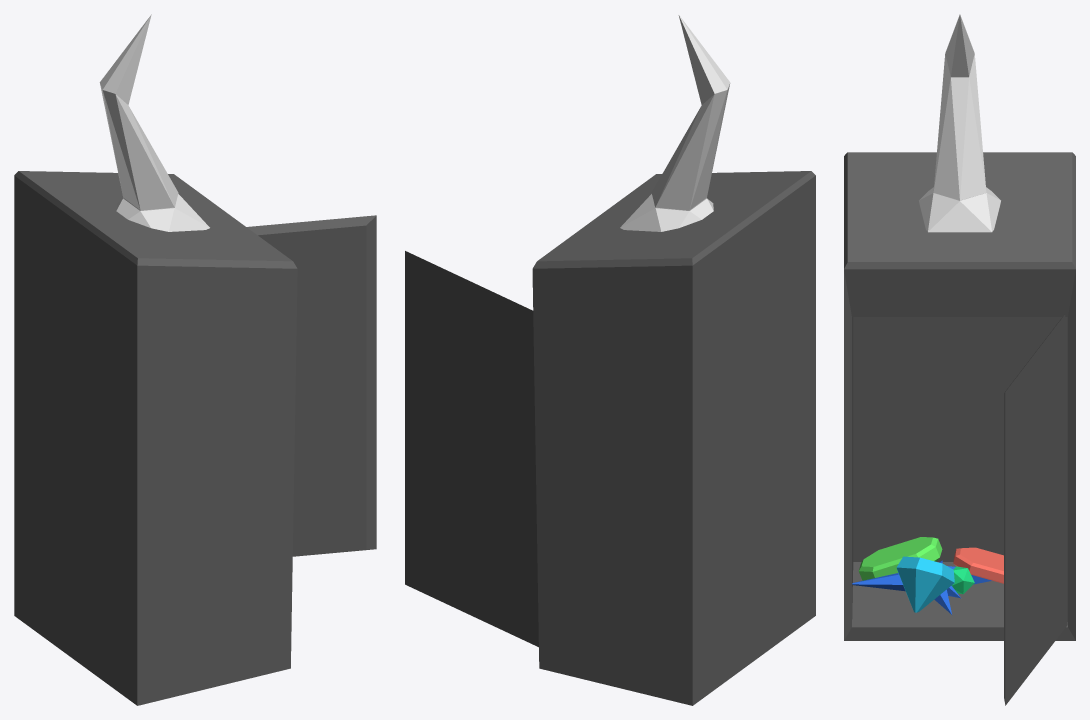
Rendered from drgn.glb.
3 renders of one model, left to right at view 1: azimuth 30°, elevation 25°; view 2: azimuth 150°, elevation 25°; view 3: azimuth 270°, elevation 25°, orthographic. The views are drawn at different scales.
Parts seen in each view (by area): view 1: Cube, Cube.001, Icosphere.005; view 2: Cube, Cube.001, Icosphere.005; view 3: Cube, Cube.001, Icosphere.005, Cone, Cylinder, Cylinder.001, Icosphere.001, Icosphere.004.
Part boxes in pixels (left/top/right/bottom): Cube: left=14, top=171, right=297, bottom=705; Cube.001: left=246, top=215, right=376, bottom=556; Icosphere.005: left=99, top=14, right=209, bottom=231; Cube: left=532, top=171, right=815, bottom=705; Cube.001: left=405, top=251, right=538, bottom=647; Icosphere.005: left=620, top=14, right=730, bottom=231; Cube: left=844, top=152, right=1075, bottom=640; Cube.001: left=1004, top=314, right=1067, bottom=705; Icosphere.005: left=919, top=14, right=1000, bottom=232; Cone: left=896, top=556, right=954, bottom=612; Cylinder: left=858, top=537, right=942, bottom=580; Cylinder.001: left=953, top=547, right=1003, bottom=583; Icosphere.001: left=852, top=566, right=991, bottom=591; Icosphere.004: left=951, top=566, right=974, bottom=594.
Bounding box in the file's own units: 22.69 × 41.89 × 14.89.
